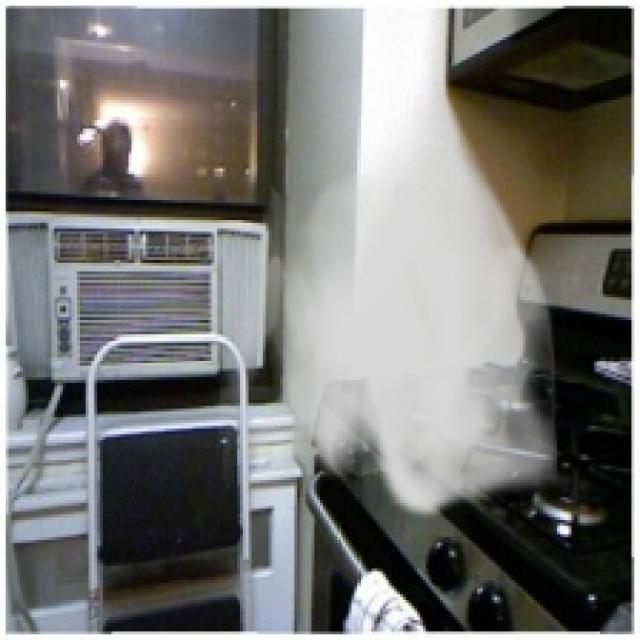Smoke: (214, 140, 569, 520)
